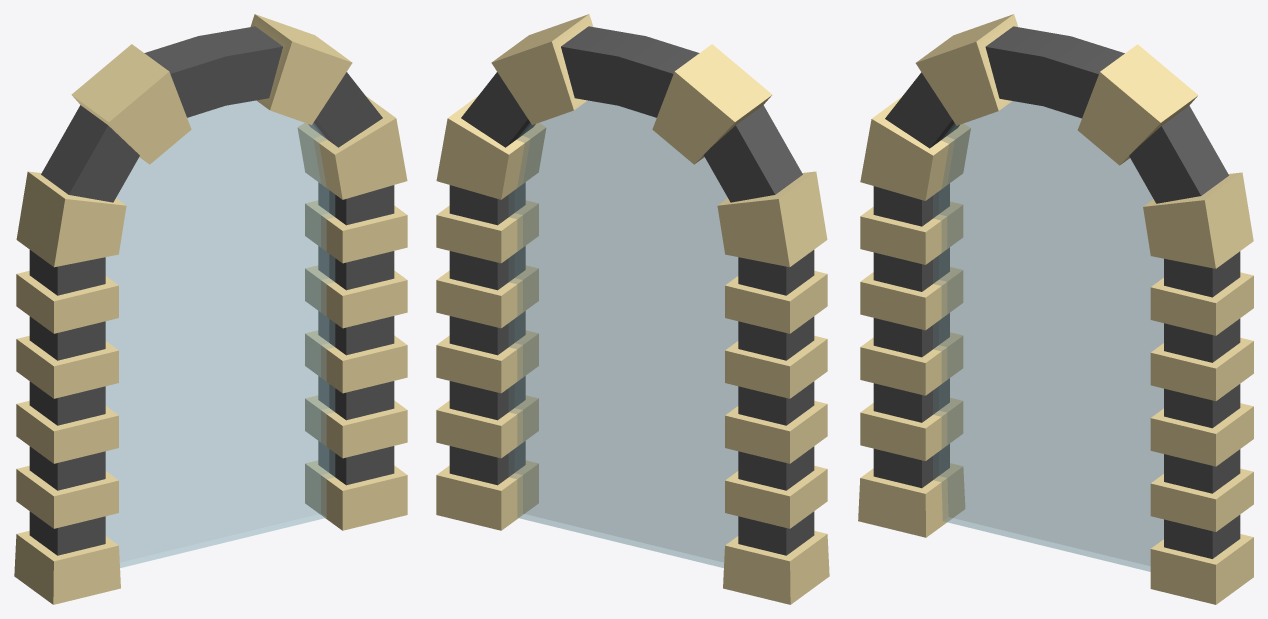
Rendered from portal.fbx.
3 renders of one model, left to right at view 1: azimuth 30°, elevation 25°; view 2: azimuth 150°, elevation 25°; view 3: azimuth 330°, elevation 25°, orthographic.
Parts seen in each view (by area): view 1: portalstructure, portal; view 2: portalstructure, portal; view 3: portalstructure, portal.
Boxes of the visible parts, <box> form: portalstructure: <box>14,14,407,604</box>; portal: <box>105,100,334,567</box>; portalstructure: <box>436,14,829,604</box>; portal: <box>509,100,738,567</box>; portalstructure: <box>858,14,1253,604</box>; portal: <box>933,101,1163,571</box>.
Bounding box in the file's own units: 5.66 × 7.68 × 1.08.
